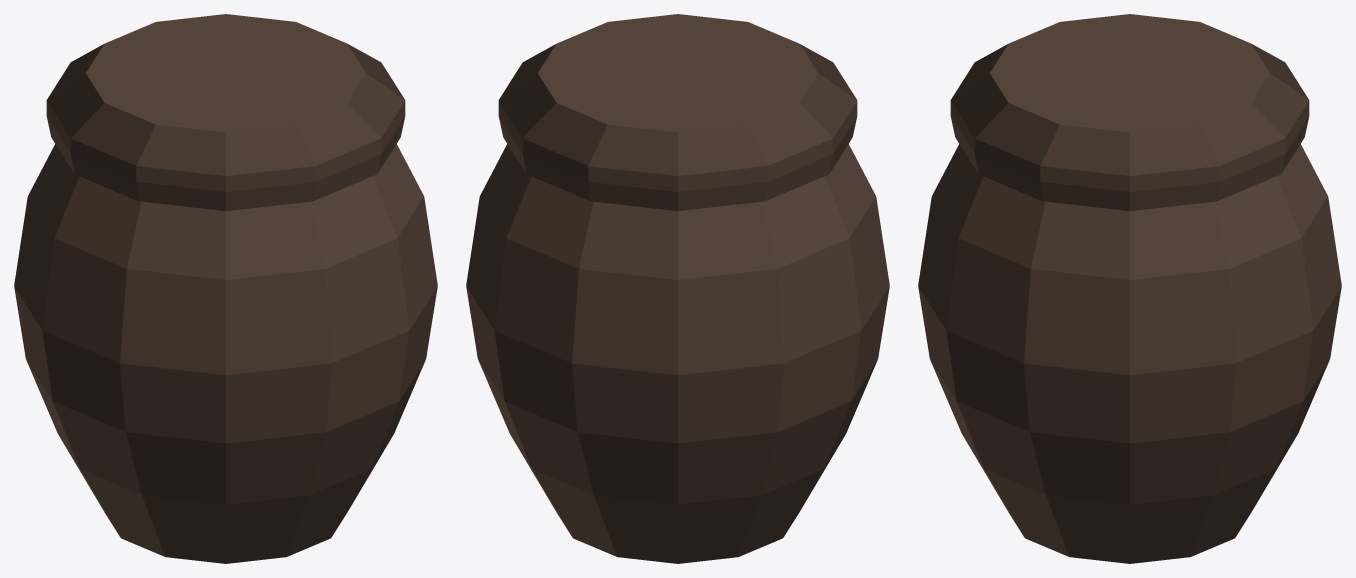
Rendered from Jar.fbx.
3 renders of one model, left to right at view 1: azimuth 30°, elevation 25°; view 2: azimuth 150°, elevation 25°; view 3: azimuth 270°, elevation 25°, orthographic.
Visible parts, largest first — view 1: Jar; view 2: Jar; view 3: Jar.
Part boxes in pixels (left/top/right/bottom): Jar: left=14, top=14, right=437, bottom=563; Jar: left=466, top=14, right=889, bottom=563; Jar: left=918, top=14, right=1341, bottom=563.
Size of the model in its own units: 37.44 by 37.44 by 42.84.
